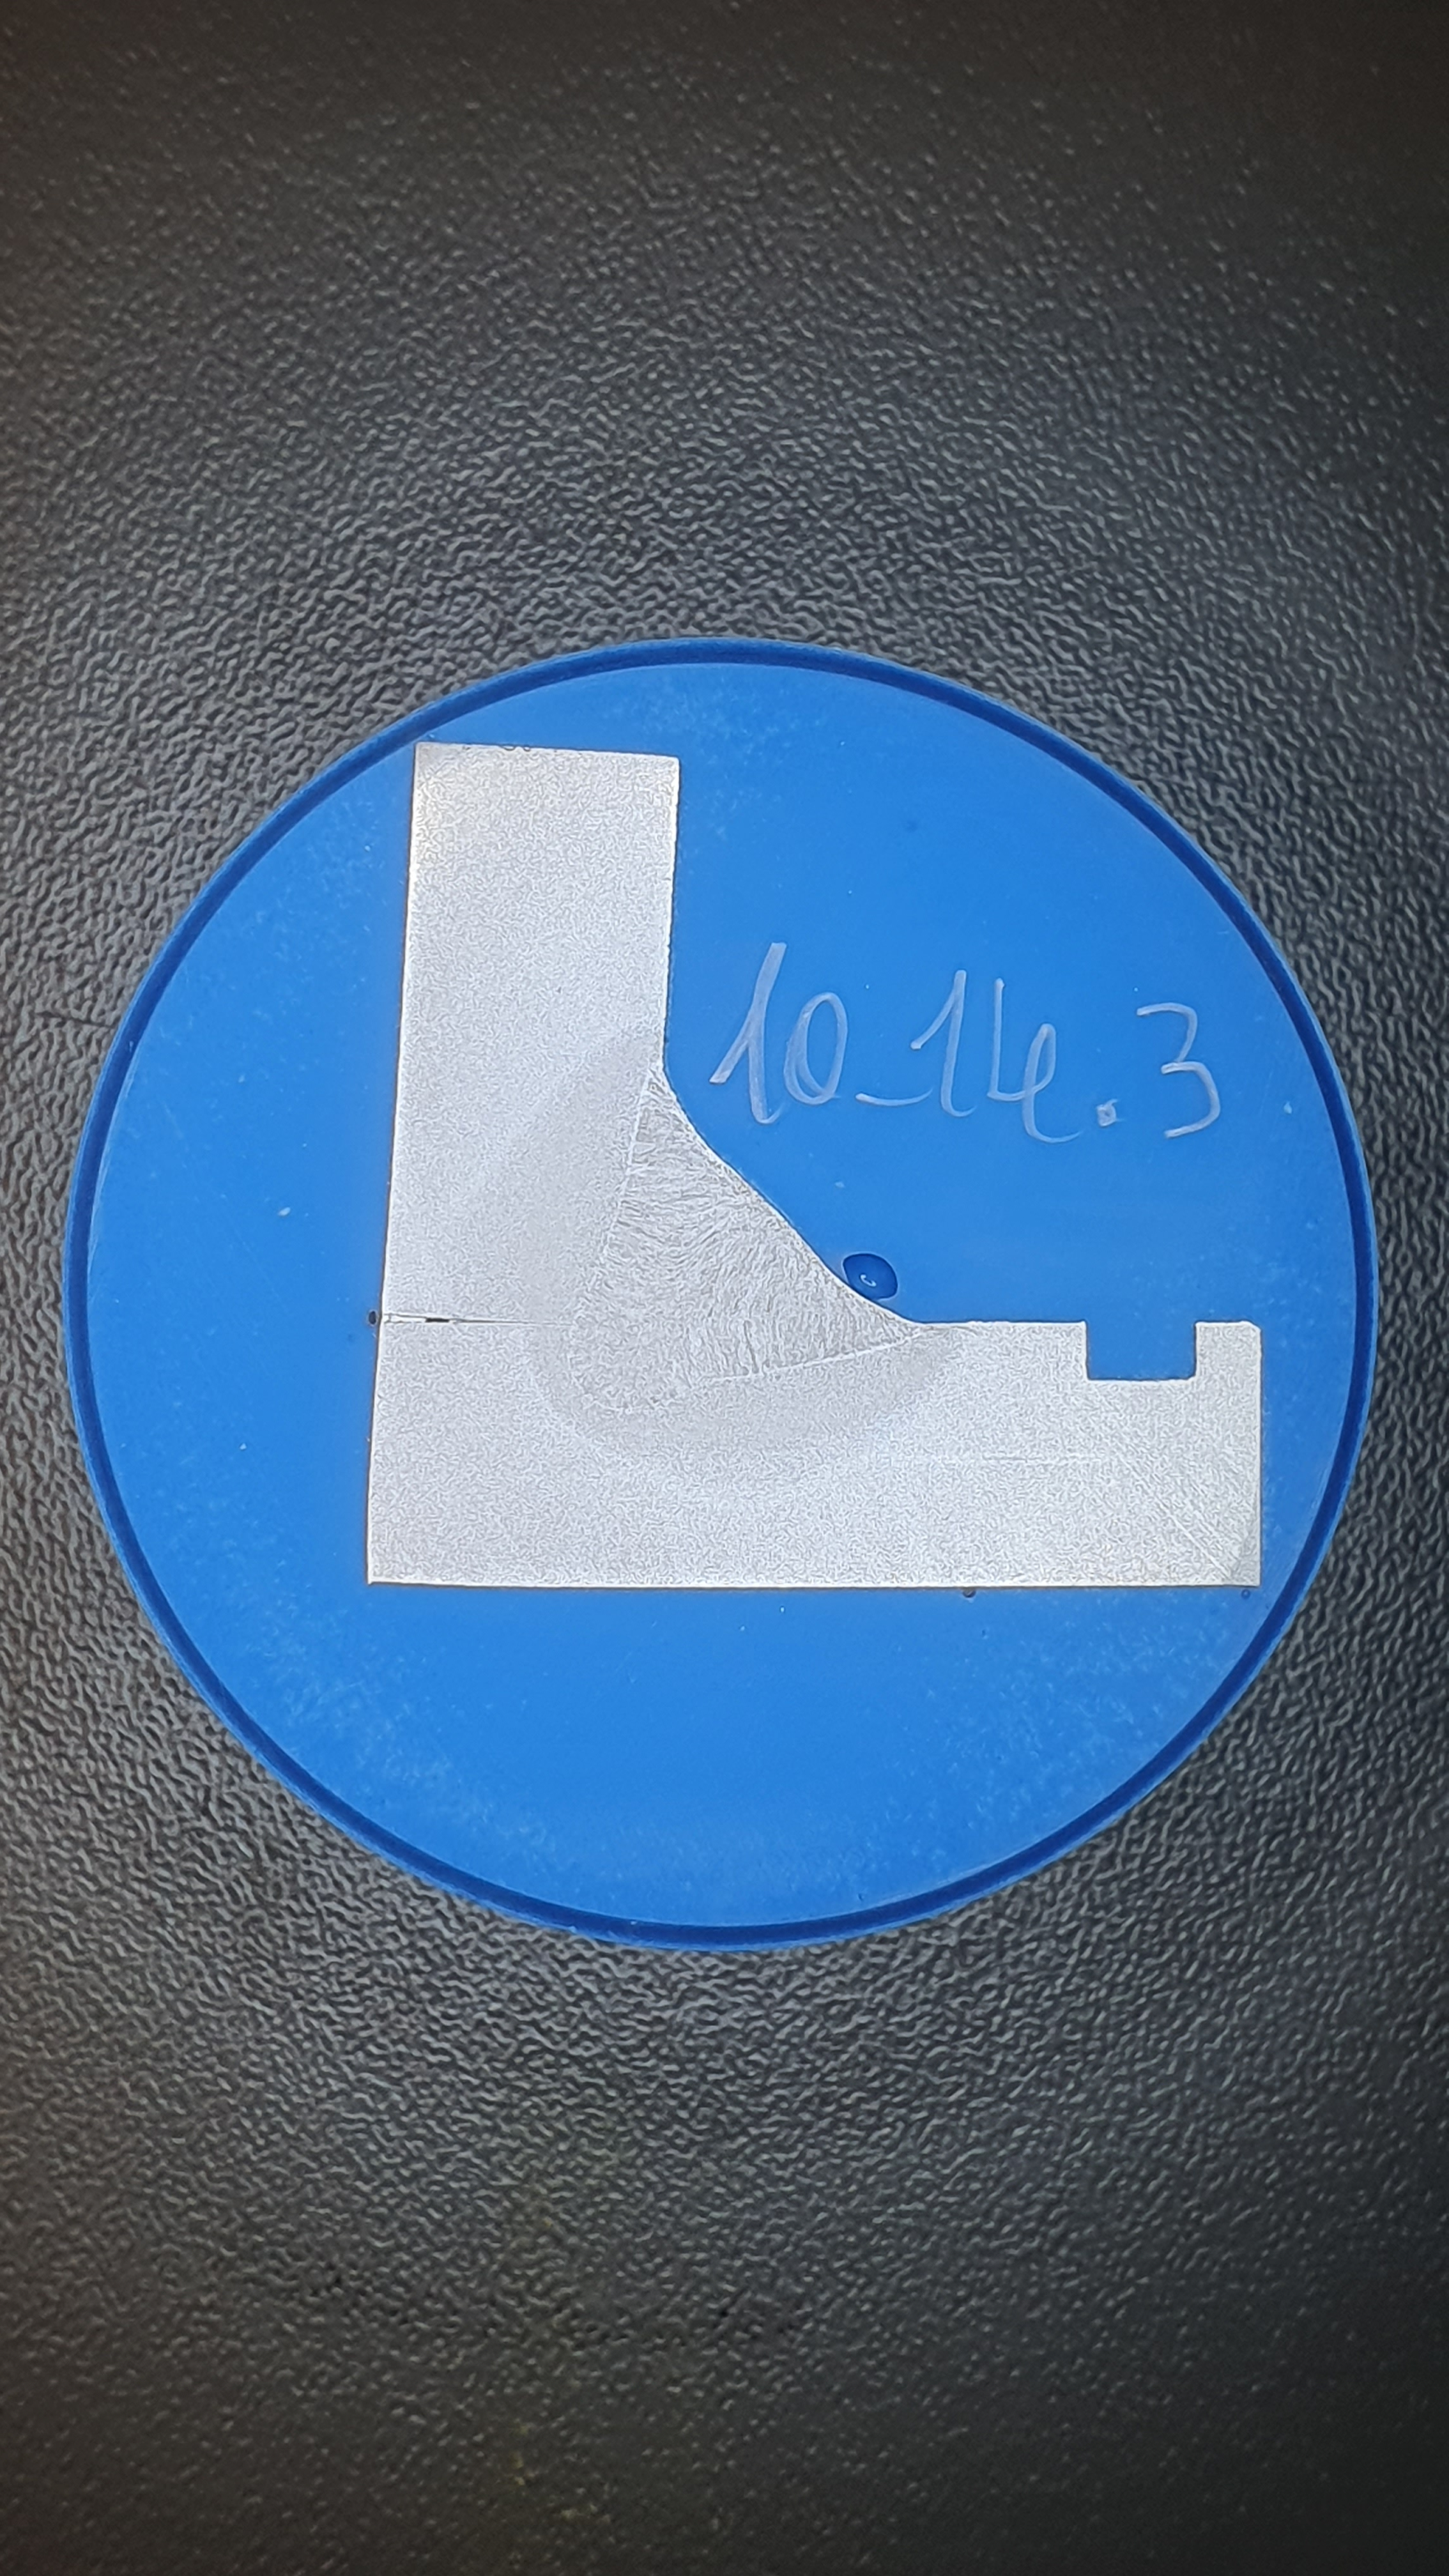Fusion: (566, 1065, 920, 1409)
Hintergrund: (87, 668, 1356, 1926)
Metall: (366, 740, 1262, 1589)
Nebenbereich: (451, 1014, 965, 1459)
